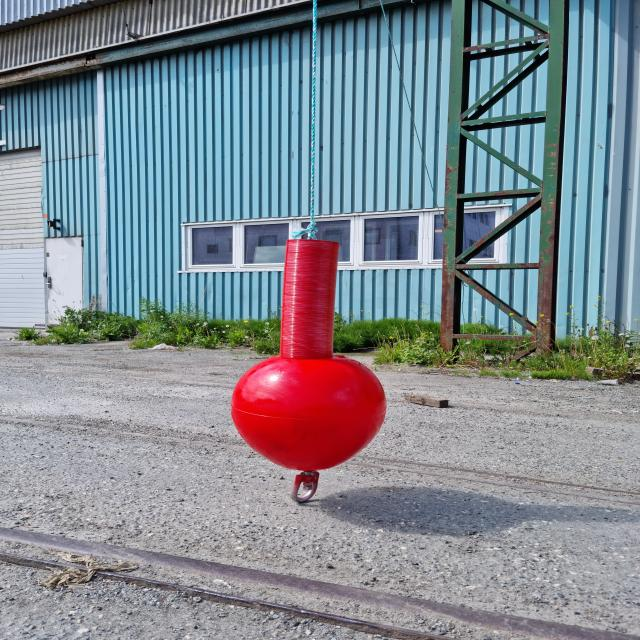red: (231, 239, 388, 472)
